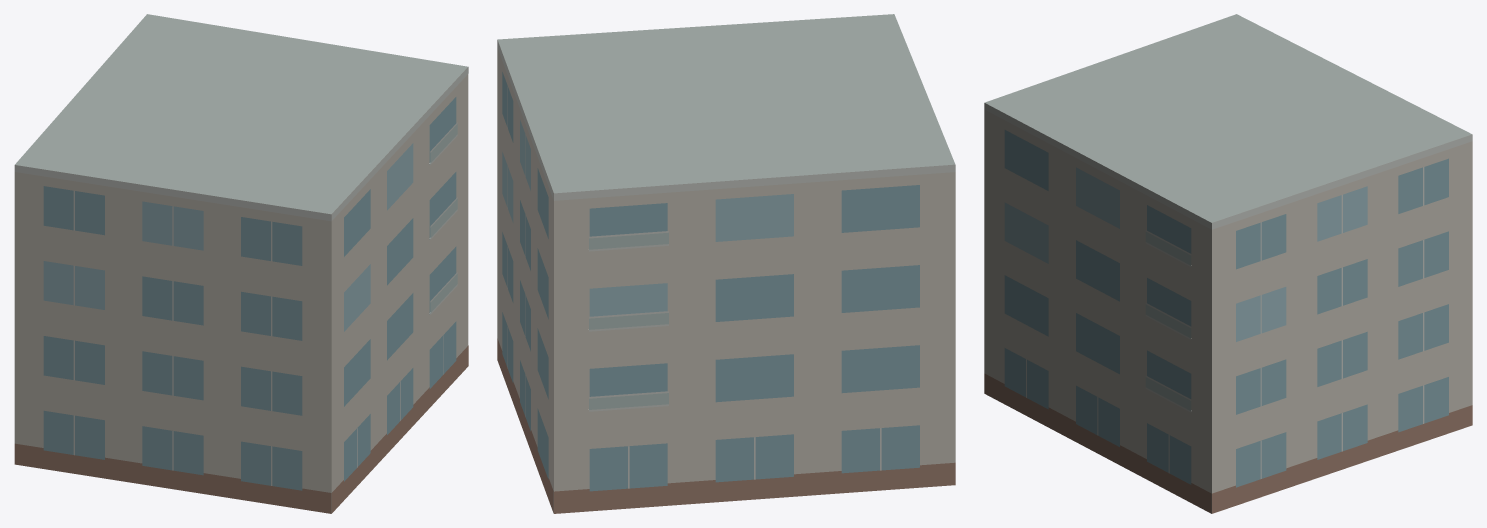
Rendered from survey-upis-32657822.glb.
The picture shows the model from 3 angles, left to right: view 1: azimuth 30°, elevation 25°; view 2: azimuth 150°, elevation 25°; view 3: azimuth 270°, elevation 25°; orthographic projection. The views are drawn at different scales.
Visible parts, largest first — view 1: survey-upis-32657822.tmp; view 2: survey-upis-32657822.tmp; view 3: survey-upis-32657822.tmp.
Boxes of the visible parts, left/top/right/bottom form: survey-upis-32657822.tmp: left=14, top=14, right=468, bottom=513; survey-upis-32657822.tmp: left=497, top=14, right=955, bottom=513; survey-upis-32657822.tmp: left=984, top=14, right=1472, bottom=513.
Bounding box in the file's own units: 16.03 × 10.4 × 15.82.
